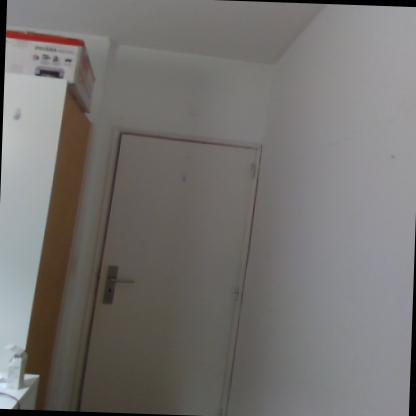closed: (72, 107, 285, 416)
